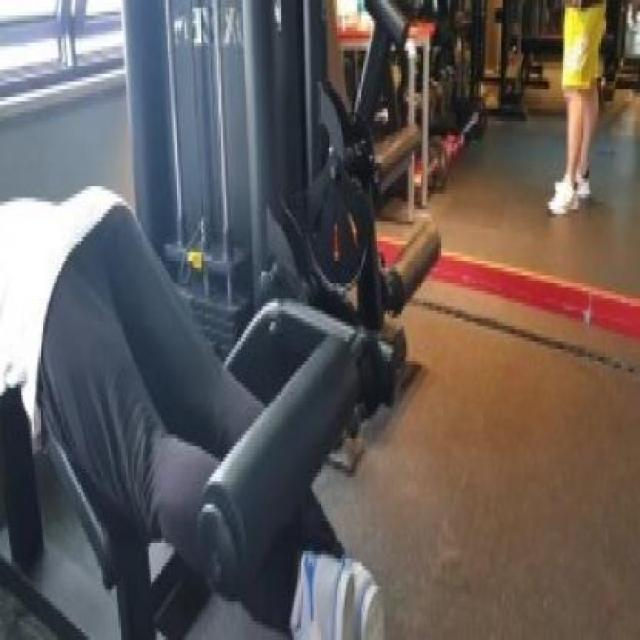reg curl machine: (0, 0, 395, 640)
